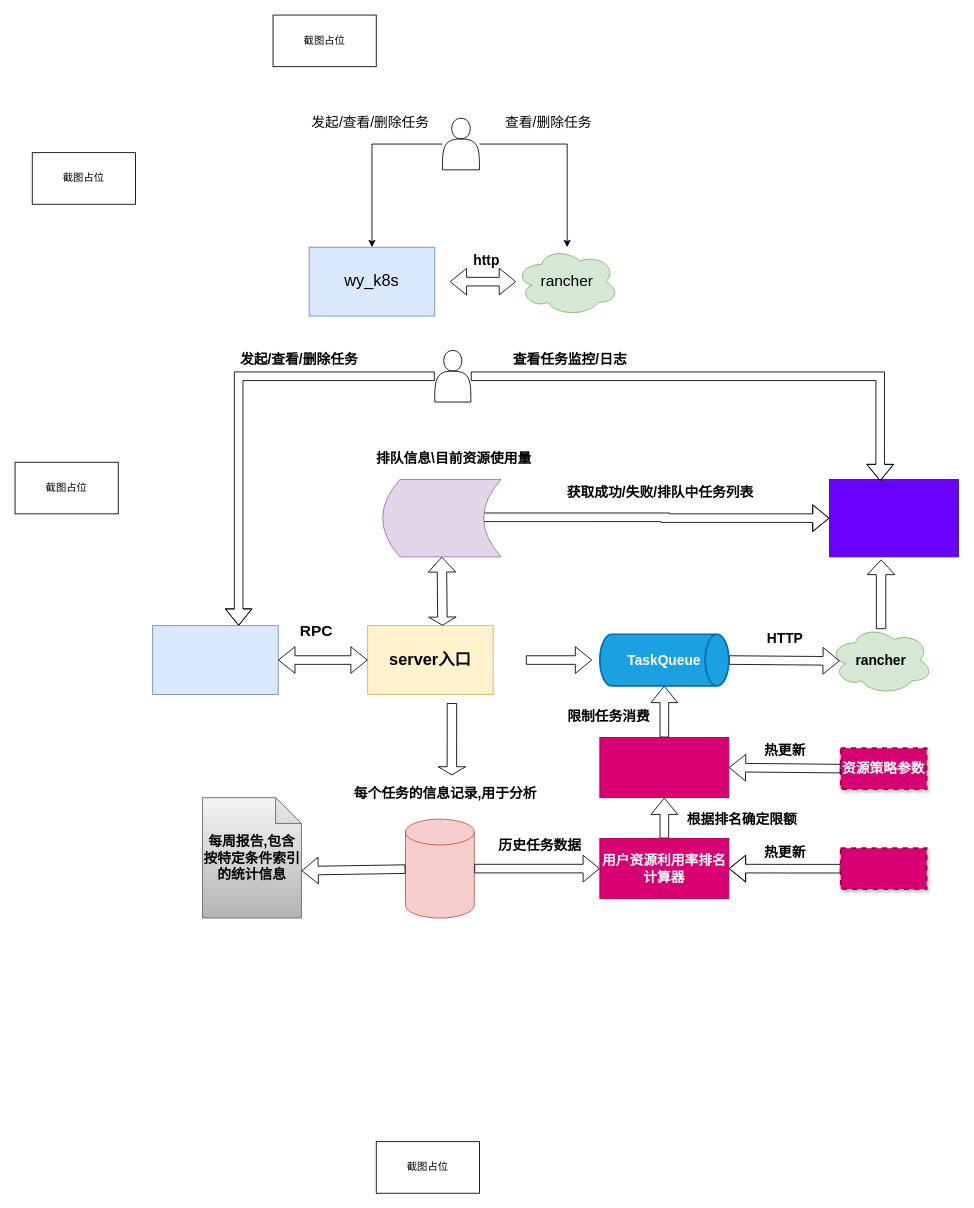
The diagram is 974 pixels wide and 1208 high, and some of its shapes have lost their labels. Each missing label, with the centre of its shape:
"ai_queue client" belongs at (x=215, y=659).
"redis" belongs at (x=441, y=518).
"中台AI看板(各种状态的任务,监控,日志)" belongs at (x=893, y=518).
"排名计算规则参数" belongs at (x=884, y=869).
"数据仓库" belongs at (x=439, y=868).
"资源限额管理器" belongs at (x=664, y=767).
